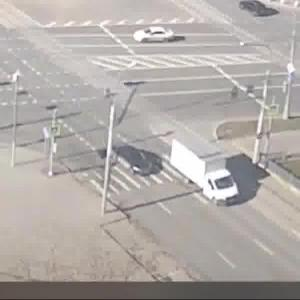car: (172, 133, 241, 213), (106, 140, 162, 186), (134, 21, 182, 47), (236, 1, 277, 17)
